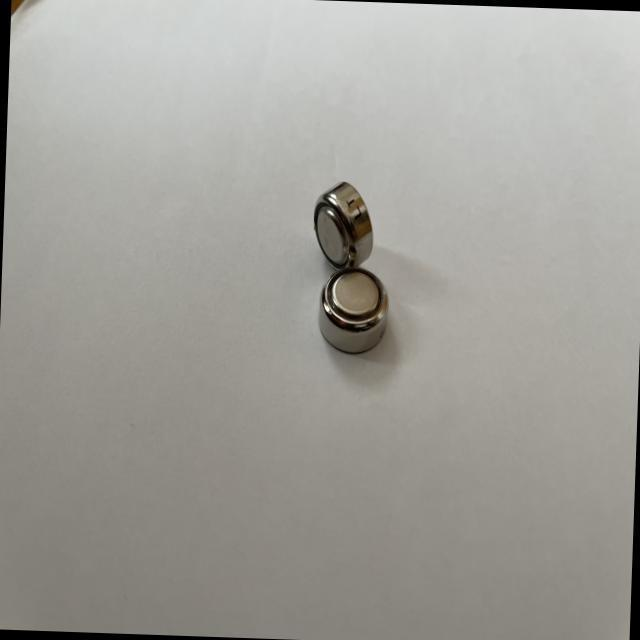COIN: (310, 178, 376, 272), (318, 270, 390, 354)
